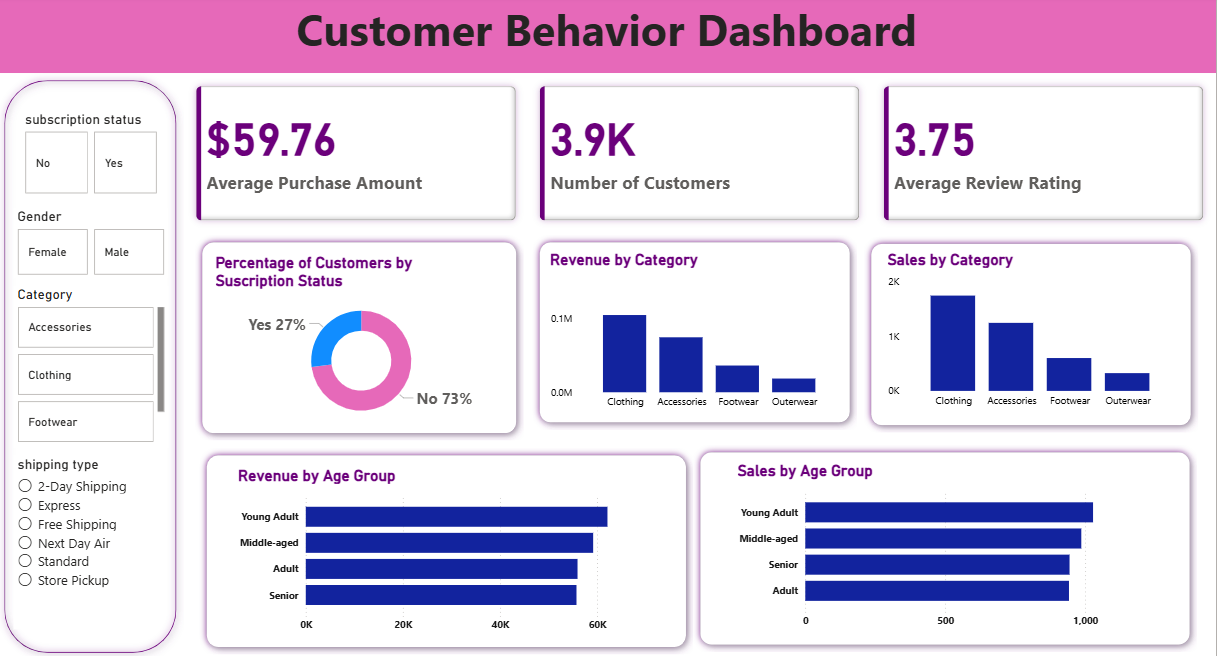

Layout of this report page (visuals, bound fields, positions):
{"tool":"powerbi","page":{"name":"Page 1","canvas":[1500,820],"ordinal":0},"visuals":[{"type":"shape","box":[249.2,557.8,607.6,254],"z":0},{"type":"cardVisual","fields":{"Data":["Customer_validation.Average Purchase Amount","Customer_validation.Number of Customers","Customer_validation.Average Review Rating"]},"box":[228.9,96,1271.8,197.5],"z":1000},{"type":"shape","box":[0,0,1264.8,96.1],"z":2000},{"type":"textbox","box":[0,0,1500.6,96],"z":3000},{"type":"shape","box":[243,294.6,404.5,253],"z":4000},{"type":"donutChart","title":"Percentage of Customers by Suscription Status","fields":{"Category":["Customer_validation.subscription_status"],"Y":["CountNonNull(Customer_validation.customer_id)"]},"box":[264.6,317.9,367.8,216.4],"z":5000},{"type":"shape","box":[659.1,294.6,399.5,239.7],"z":6000},{"type":"shape","box":[1066.9,296.3,411.1,241.3],"z":7000},{"type":"clusteredColumnChart","title":"Revenue by Category","fields":{"Y":["Sum(Customer_validation.purchase_amount)"],"Category":["Customer_validation.category"]},"box":[675.8,312.9,366.2,204.7],"z":8000},{"type":"clusteredColumnChart","title":"Sales by Category","fields":{"Y":["CountNonNull(Customer_validation.customer_id)"],"Category":["Customer_validation.category"]},"box":[1090.2,314.6,362.8,203.1],"z":9000},{"type":"shape","box":[0,96.5,229.7,722.4],"z":10000},{"type":"advancedSlicerVisual","title":"subscription status","fields":{"Values":["Customer_validation.subscription_status"]},"box":[29.5,142.1,173.5,107.1],"z":11000},{"type":"advancedSlicerVisual","title":"Gender","fields":{"Values":["Customer_validation.gender"]},"box":[20.3,262.1,190.1,86.8],"z":12000},{"type":"advancedSlicerVisual","title":"Category","fields":{"Values":["Customer_validation.category"]},"box":[20.3,358.1,190.1,199.3],"z":13000},{"type":"listSlicer","title":"shipping type","fields":{"Values":["Customer_validation.shipping_type"]},"box":[20.3,566.7,175.4,214.1],"z":14000},{"type":"shape","box":[856.5,553.7,620.2,254.7],"z":15000},{"type":"clusteredBarChart","title":"Sales by Age Group","fields":{"Category":["Customer_validation.age_group"],"Y":["CountNonNull(Customer_validation.customer_id)"]},"box":[906.3,574,522.4,214.1],"z":16000},{"type":"clusteredBarChart","title":"Revenue by Age Group","fields":{"Y":["Sum(Customer_validation.purchase_amount)"],"Category":["Customer_validation.age_group"]},"box":[291.9,579.1,522.2,213.6],"z":17000}]}

Visuals, with their boxes in screenshot pixels (x1, y1, x2, y2), scaled from the page's 1500x820 canvas onto the 1218x656 screenshot:
shape: <box>202,446,696,649</box>
cardVisual - Customer_validation.Average Purchase Amount x Customer_validation.Number of Customers: <box>186,77,1217,235</box>
shape: <box>0,0,1027,77</box>
textbox: <box>0,0,1217,77</box>
shape: <box>197,236,526,438</box>
"Percentage of Customers by Suscription Status" donutChart: <box>215,254,514,427</box>
shape: <box>535,236,860,427</box>
shape: <box>866,237,1200,430</box>
"Revenue by Category" clusteredColumnChart: <box>549,250,846,414</box>
"Sales by Category" clusteredColumnChart: <box>885,252,1180,414</box>
shape: <box>0,77,187,655</box>
"subscription status" advancedSlicerVisual: <box>24,114,165,199</box>
"Gender" advancedSlicerVisual: <box>16,210,171,279</box>
"Category" advancedSlicerVisual: <box>16,286,171,446</box>
"shipping type" listSlicer: <box>16,453,159,625</box>
shape: <box>695,443,1199,647</box>
"Sales by Age Group" clusteredBarChart: <box>736,459,1160,630</box>
"Revenue by Age Group" clusteredBarChart: <box>237,463,661,634</box>
